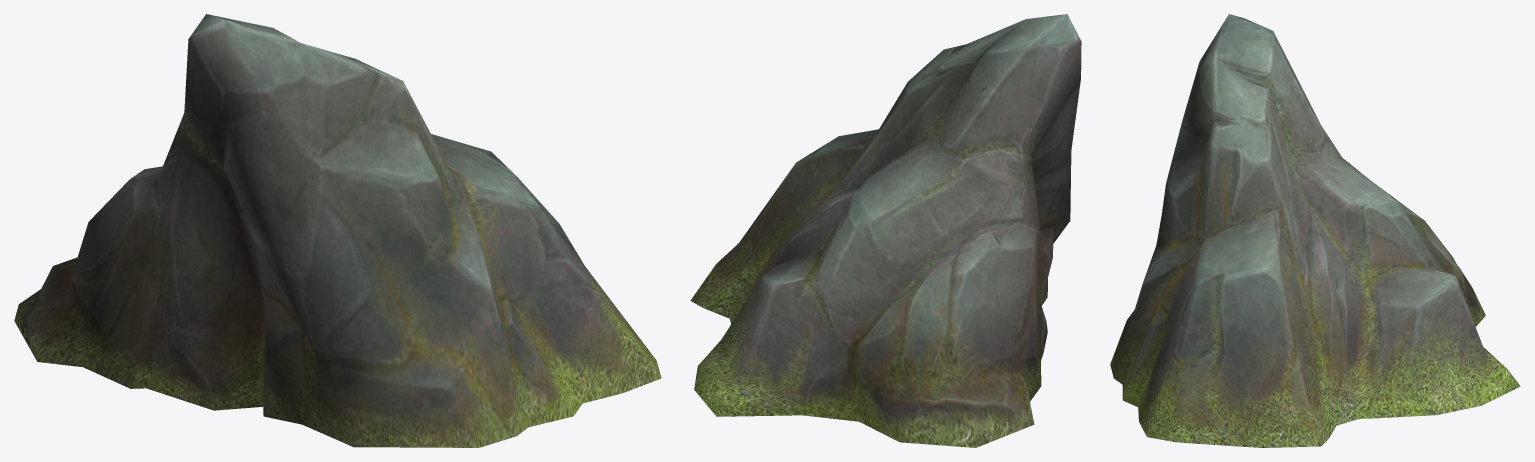
The model's file is wlf_shitou01_w.FBX.
3 renders of one model, left to right at view 1: azimuth 30°, elevation 25°; view 2: azimuth 150°, elevation 25°; view 3: azimuth 270°, elevation 25°, orthographic. The views are drawn at different scales.
Parts seen in each view (by area): view 1: wlf_shitou01_w; view 2: wlf_shitou01_w; view 3: wlf_shitou01_w.
Part boxes in pixels (x1,y1,x2,y2): wlf_shitou01_w: [14, 14, 661, 447]; wlf_shitou01_w: [690, 14, 1081, 447]; wlf_shitou01_w: [1110, 14, 1520, 447].
Bounding box in the file's own units: 94.91 × 76.64 × 97.83.
